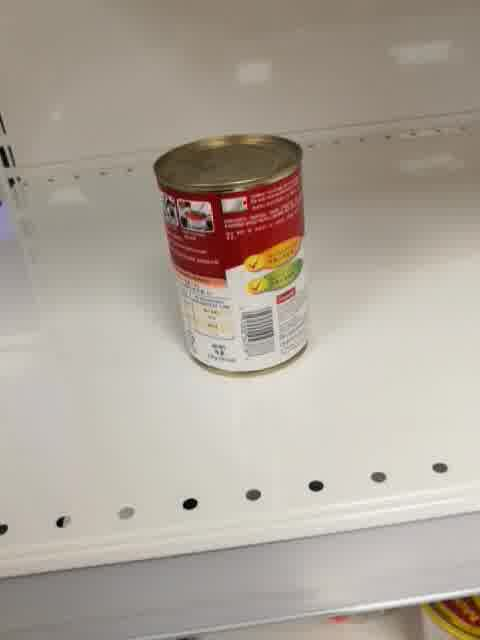tomatosoup: (152, 128, 309, 381)
